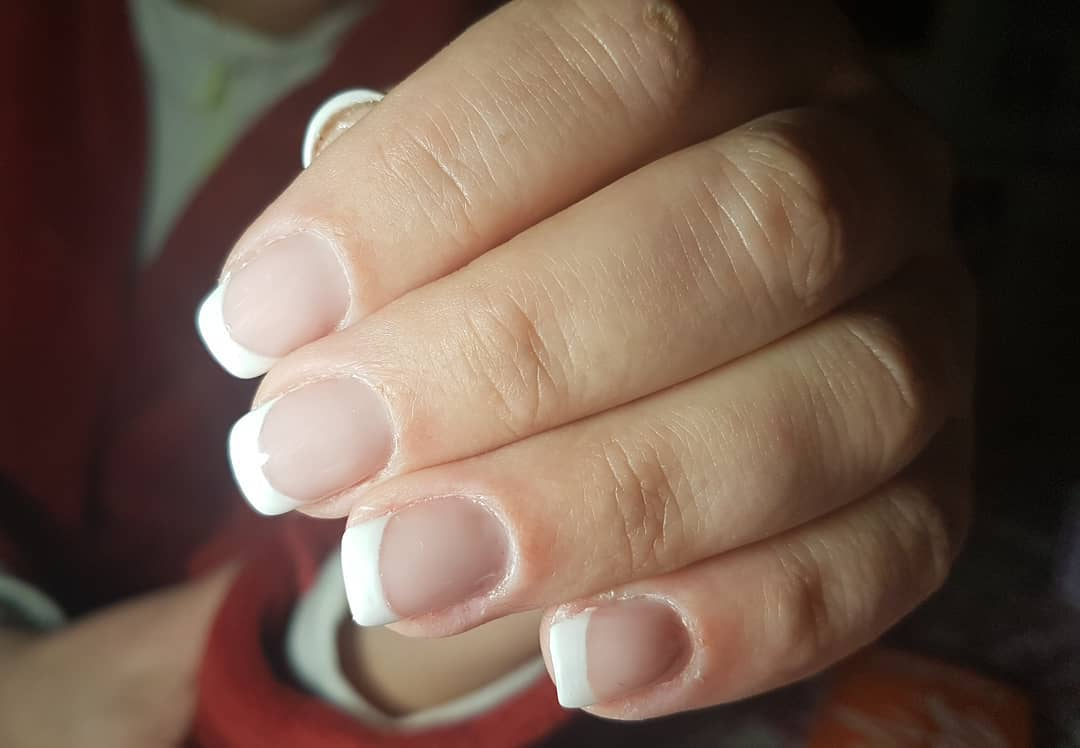hand: (245, 53, 966, 659)
